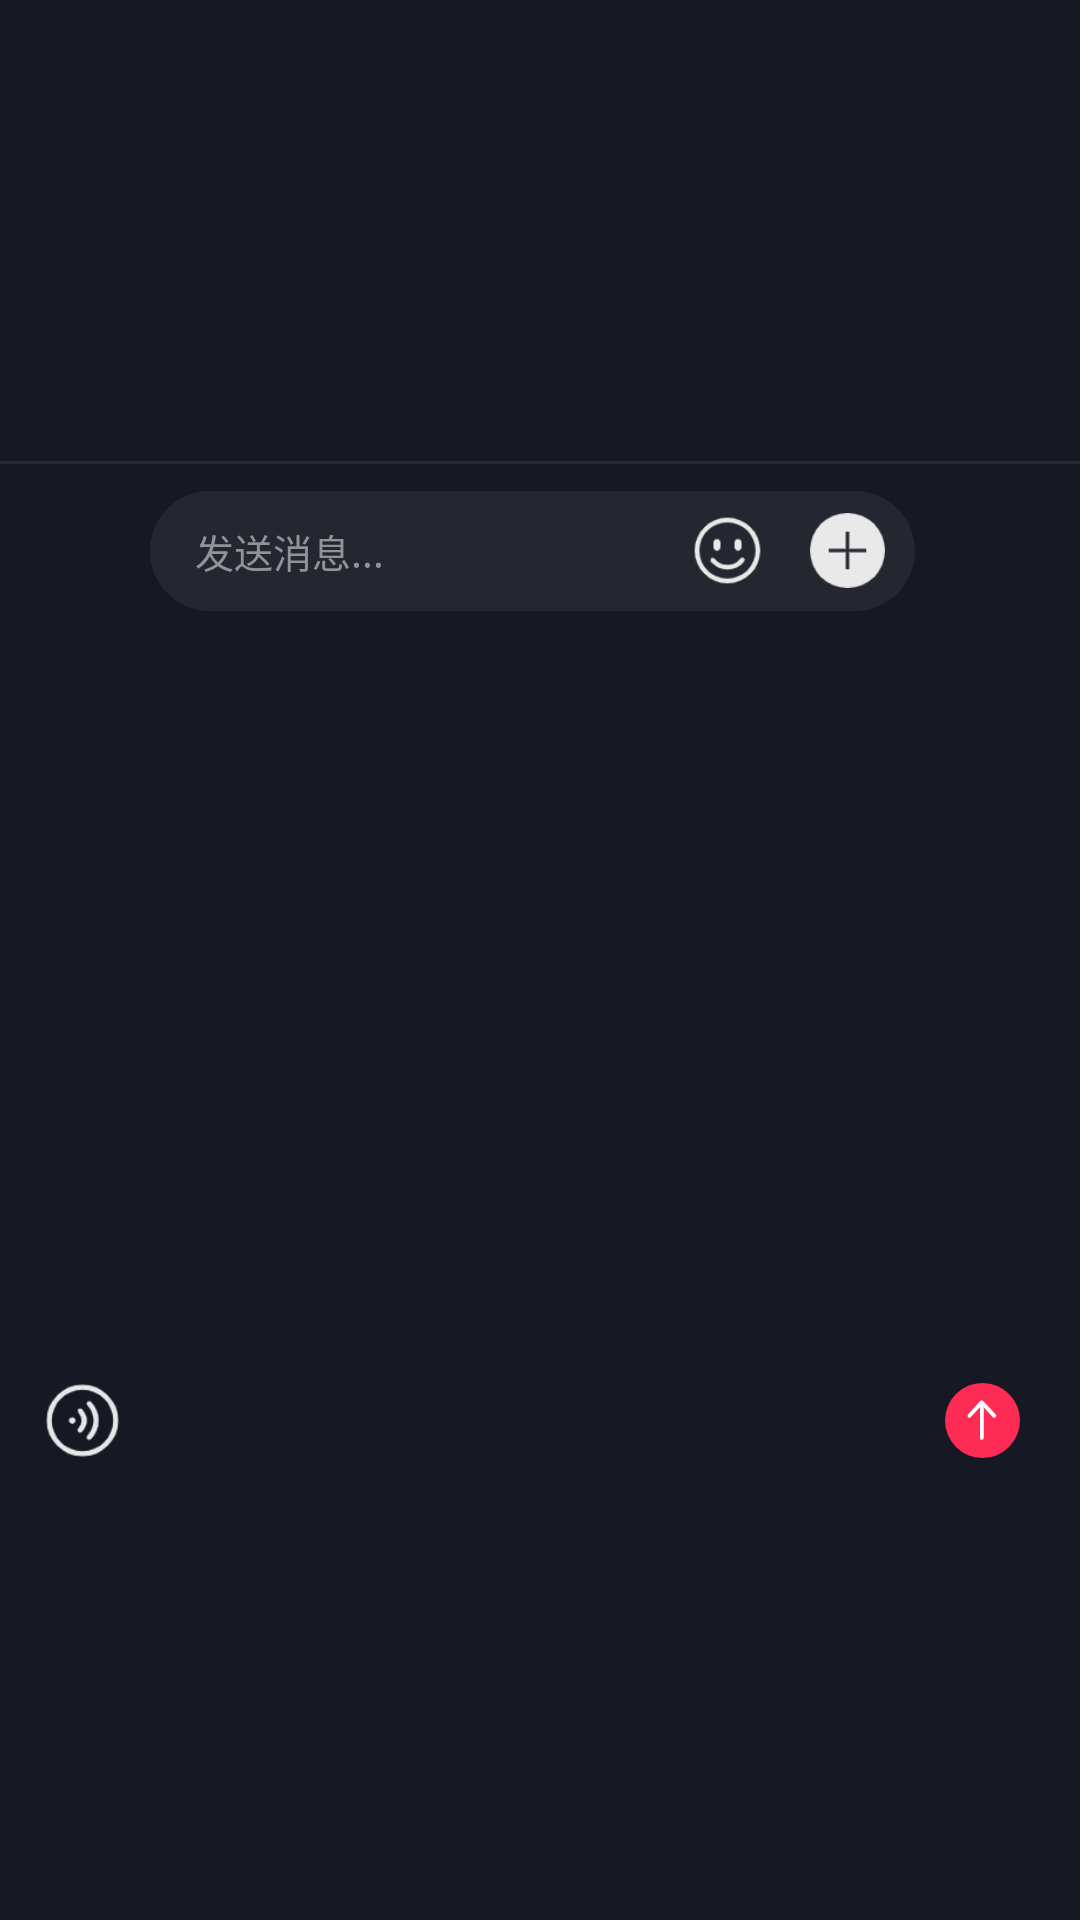

Point at icon controls on the screen. Image size 1080 × 1920, points as (x,y).
add: (847,550)
chat switch: (82,1420)
emoji: (727,550)
